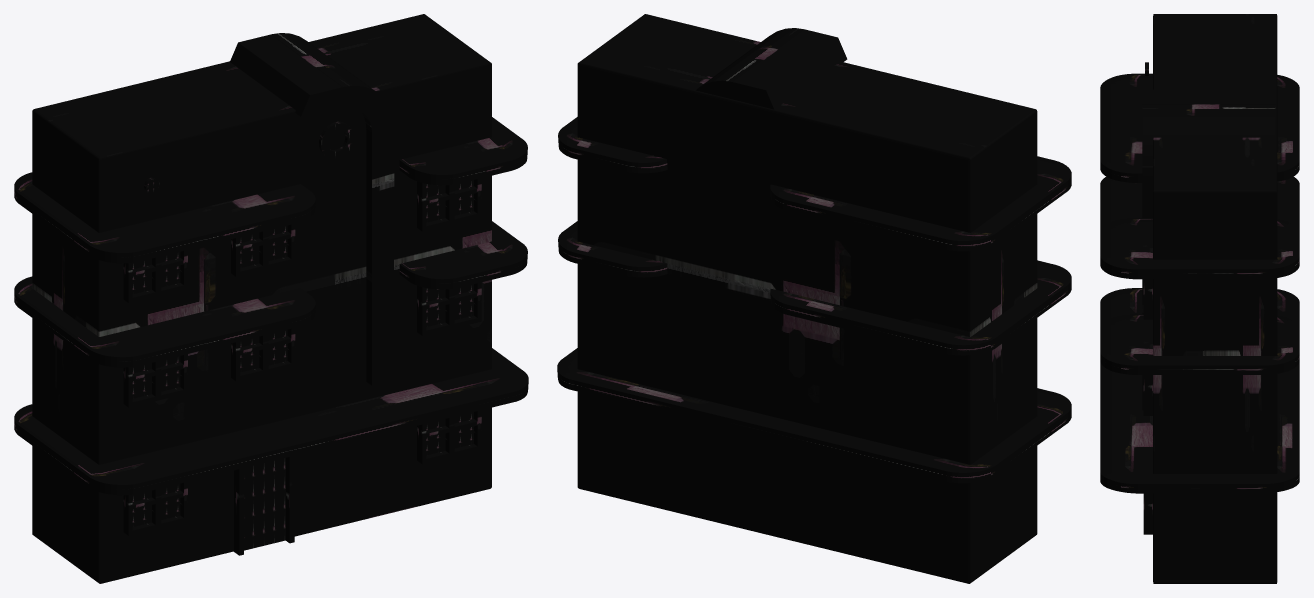
The model's file is BuildingBake-simple-blender.glb.
3 views of the same model, side by side, from view 1: azimuth 30°, elevation 25°; view 2: azimuth 150°, elevation 25°; view 3: azimuth 270°, elevation 25° (orthographic). The views are drawn at different scales.
Parts seen in each view (by area): view 1: bui, awn, cre, awn.001, awn.002, awn.003, awn.004, dow.010, win.008, win.002, win.007, win.009 (+14 smaller); view 2: bui, awn, awn.001, awn.002, cre, awn.003, awn.004; view 3: bui, awn, cre, awn.001, awn.004, awn.003, awn.002, win.011, win.002, win.008.
Boxes of the visible parts, x1,y1,x2,y2 form: bui: (32, 14, 491, 583); awn: (14, 348, 528, 495); cre: (230, 33, 394, 385); awn.001: (14, 172, 315, 263); awn.002: (14, 276, 315, 367); awn.003: (399, 221, 527, 289); awn.004: (399, 117, 527, 185); dow.010: (244, 458, 285, 550); win.008: (417, 282, 481, 335); win.002: (417, 178, 481, 231); win.007: (231, 328, 295, 381); win.009: (123, 482, 187, 535); bui: (577, 14, 1037, 583); awn: (557, 348, 1071, 483); awn.001: (770, 156, 1071, 251); awn.002: (770, 260, 1071, 355); cre: (696, 28, 847, 109); awn.003: (558, 221, 667, 277); awn.004: (558, 117, 667, 173); bui: (1153, 14, 1277, 583); awn: (1100, 288, 1299, 493); cre: (1142, 89, 1275, 410); awn.001: (1100, 73, 1299, 182); awn.004: (1100, 218, 1299, 278); awn.003: (1100, 314, 1299, 374); awn.002: (1100, 176, 1299, 279); win.011: (1143, 493, 1152, 534); win.002: (1143, 279, 1152, 319); win.008: (1143, 375, 1152, 415).
Size of the model in its own units: 3.08 by 3 by 1.32.
1 material, 1 textured.
